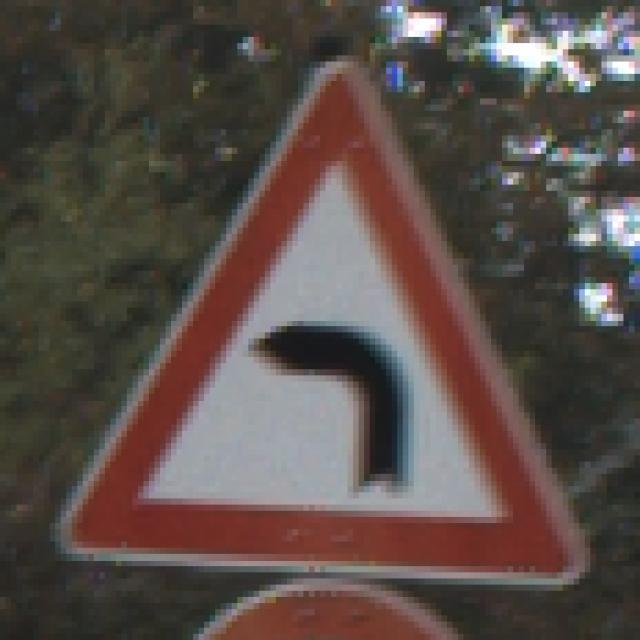left hand curve: (52, 62, 589, 585)
